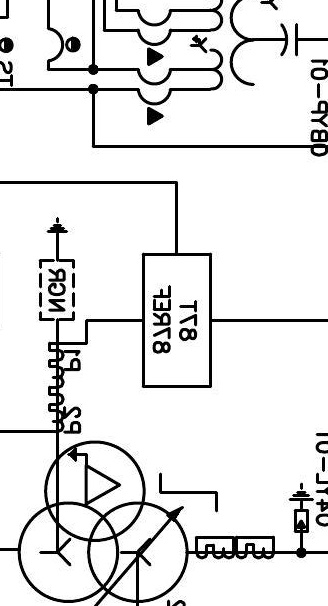11522_tx_ynyn0d1: (16, 439, 190, 604)
115_la: (288, 482, 315, 534)
NGR_future: (38, 216, 75, 322)
